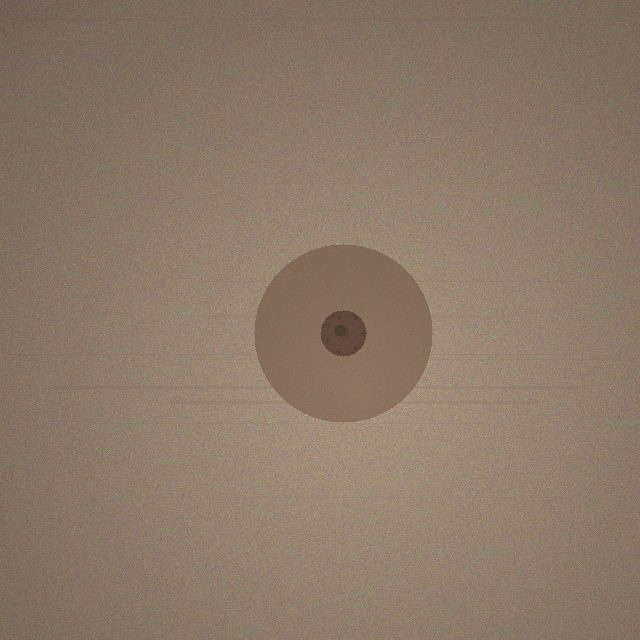cold_weld: (254, 244, 432, 422)
